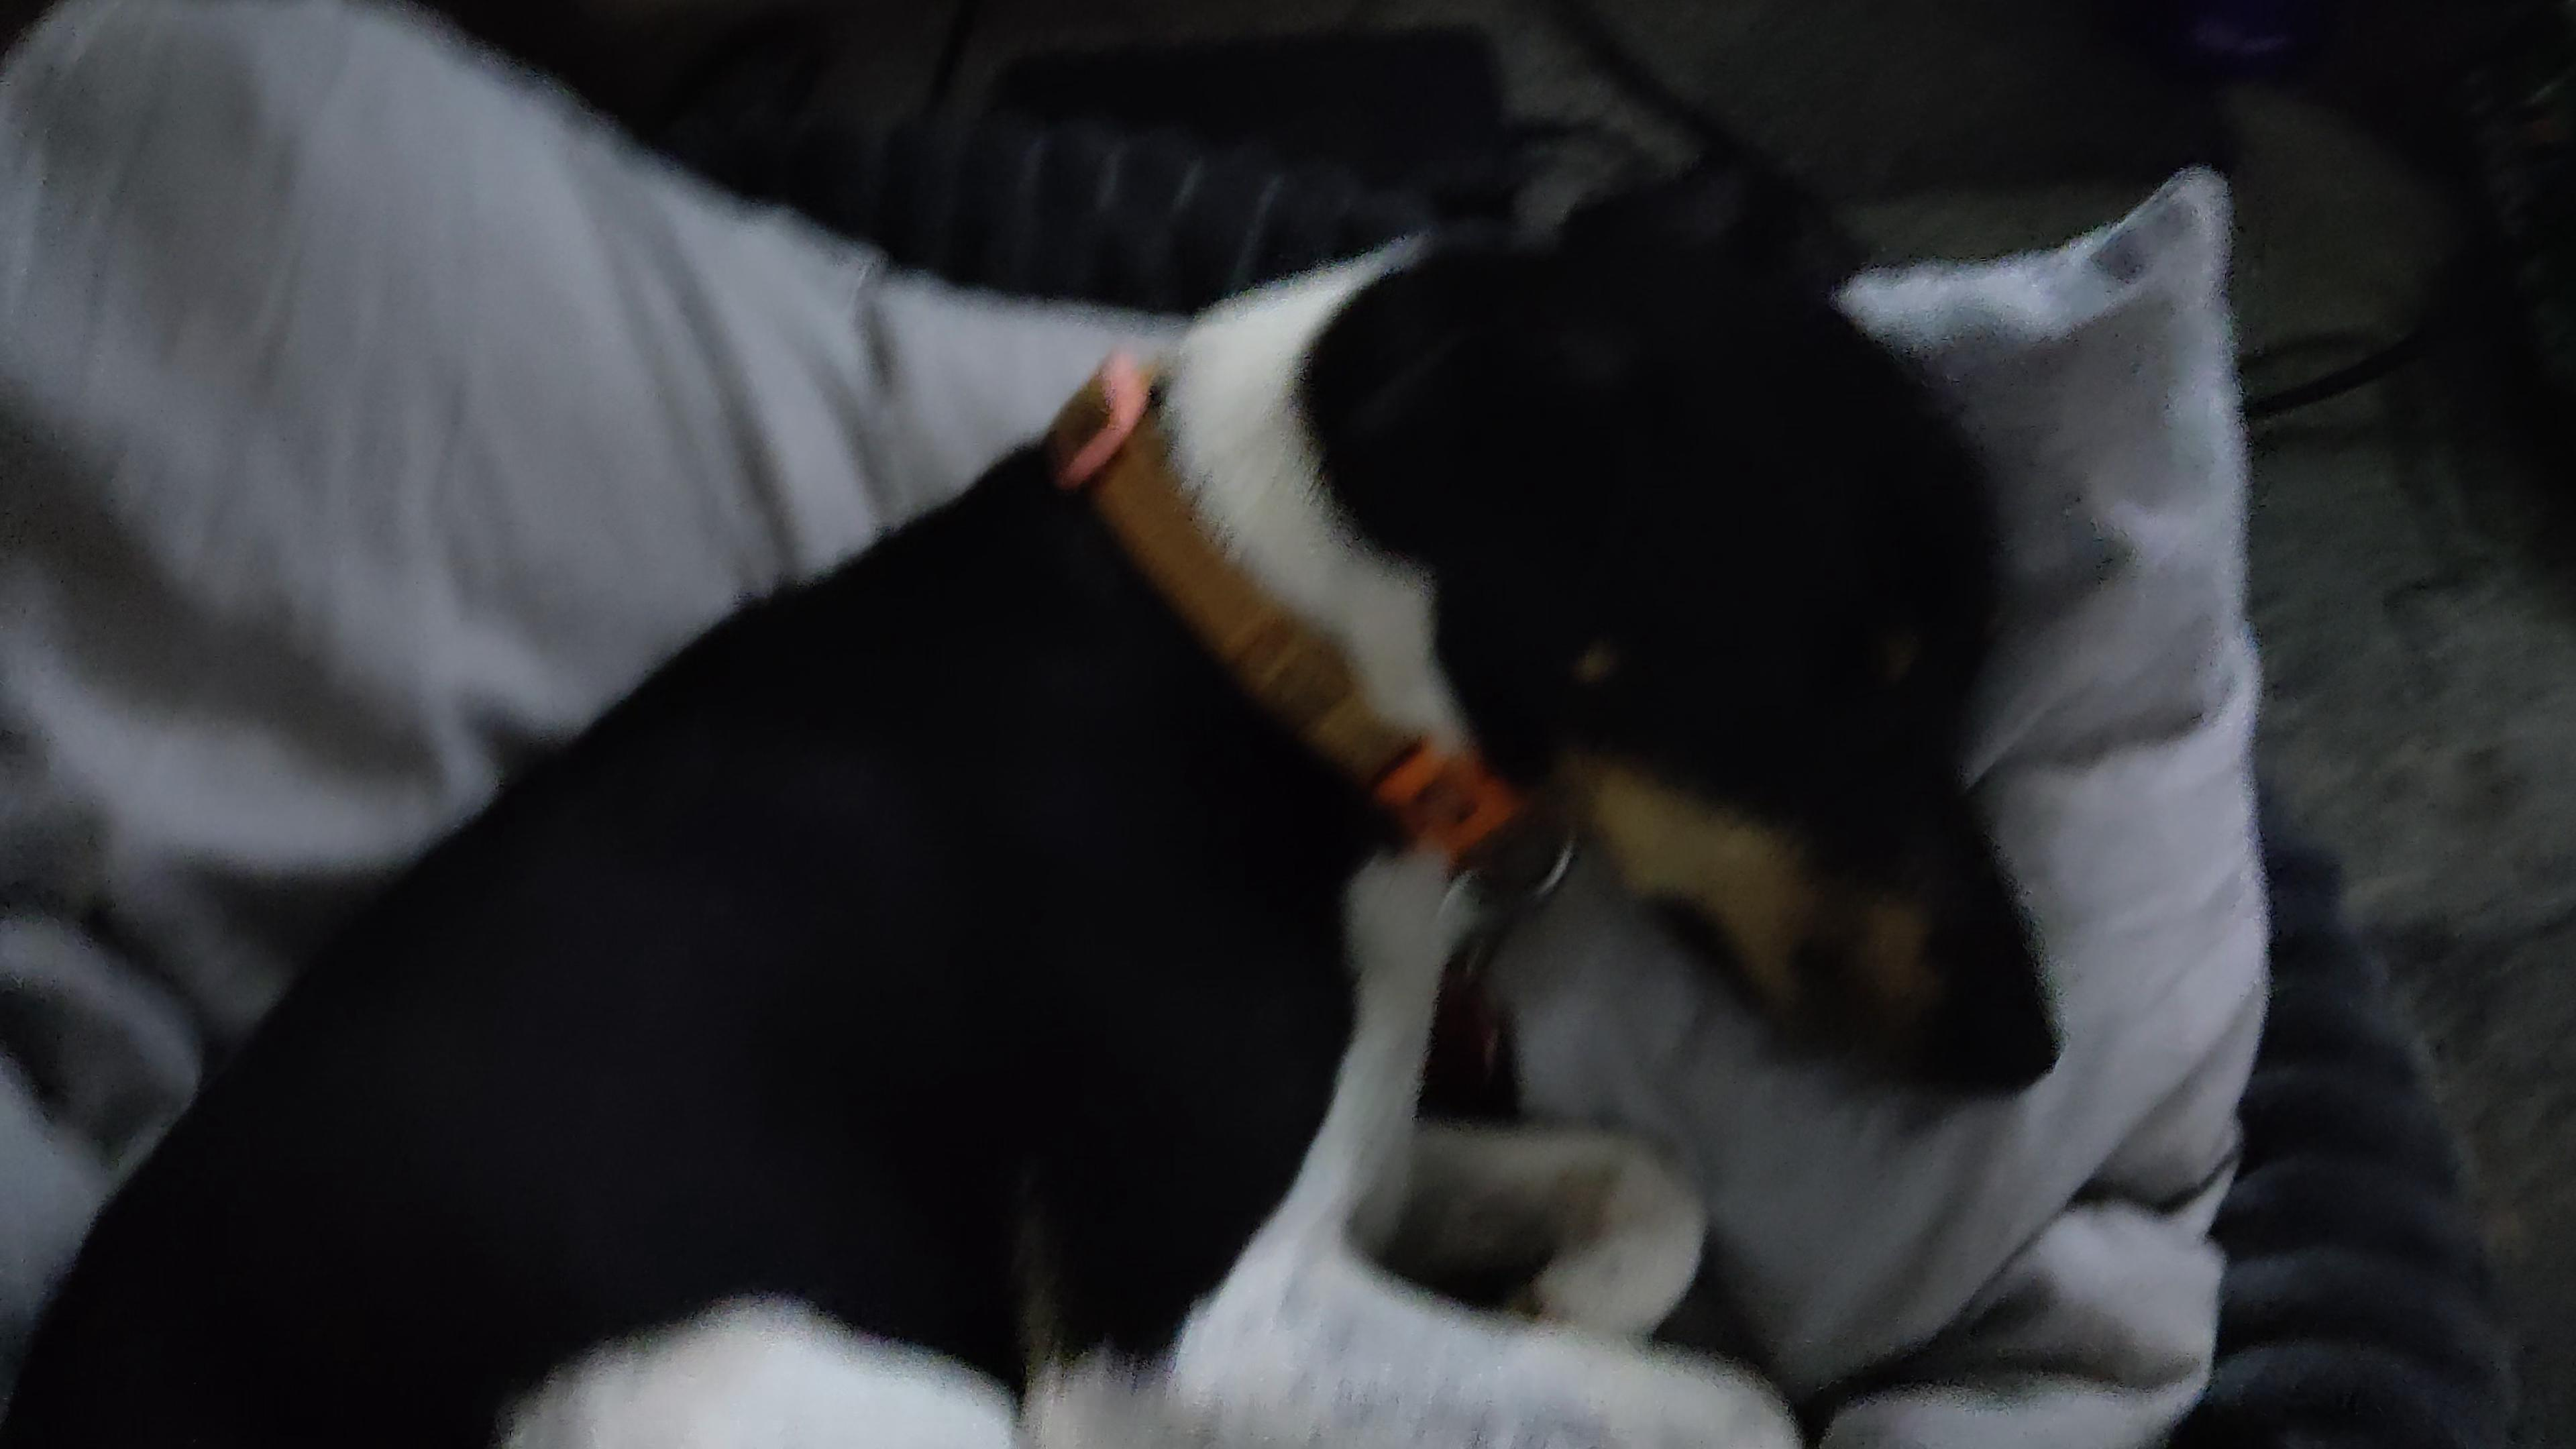Dog: (12, 147, 2081, 1449)
